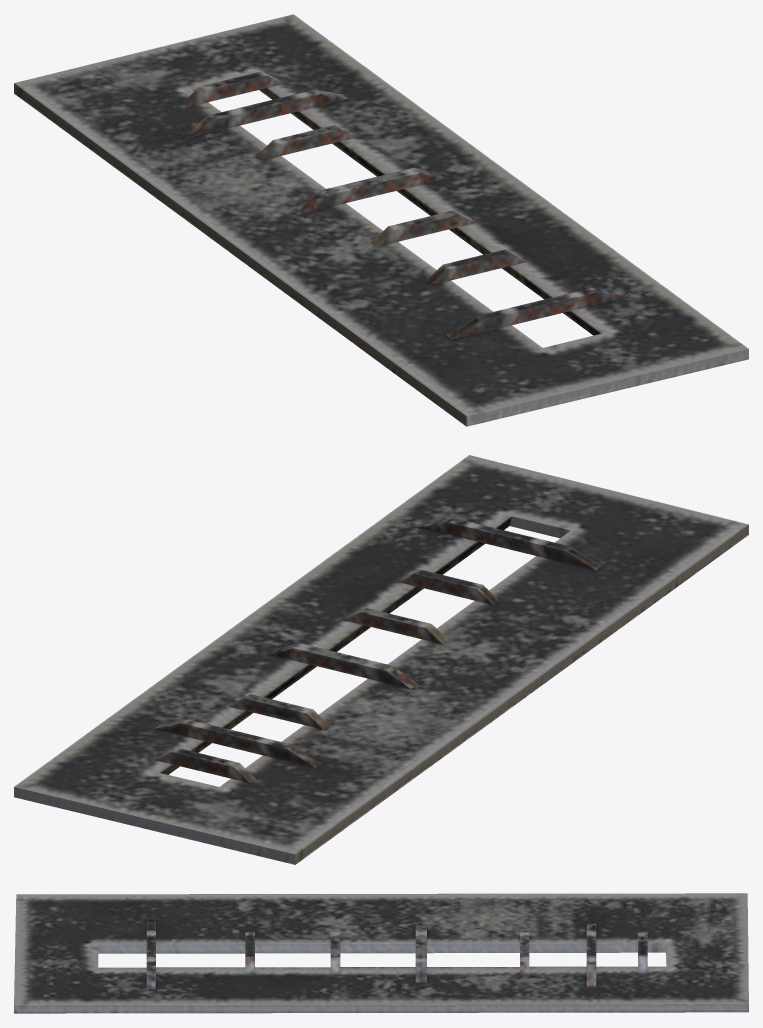
Rendered from G30PassengerWindowArmor_WorldItem.fbx.
The picture shows the model from 3 angles, top to bottom: view 1: azimuth 30°, elevation 25°; view 2: azimuth 150°, elevation 25°; view 3: azimuth 270°, elevation 25°; orthographic projection. The views are drawn at different scales.
Visible parts, largest first — view 1: RearLeftWindowArmor_obj; view 2: RearLeftWindowArmor_obj; view 3: RearLeftWindowArmor_obj.
Boxes of the visible parts, x1,y1,x2,y2 form: RearLeftWindowArmor_obj: [14, 14, 748, 426]; RearLeftWindowArmor_obj: [14, 455, 748, 864]; RearLeftWindowArmor_obj: [14, 893, 748, 1013].
Size of the model in its own units: 0.7469 by 0.0605 by 2.1.
